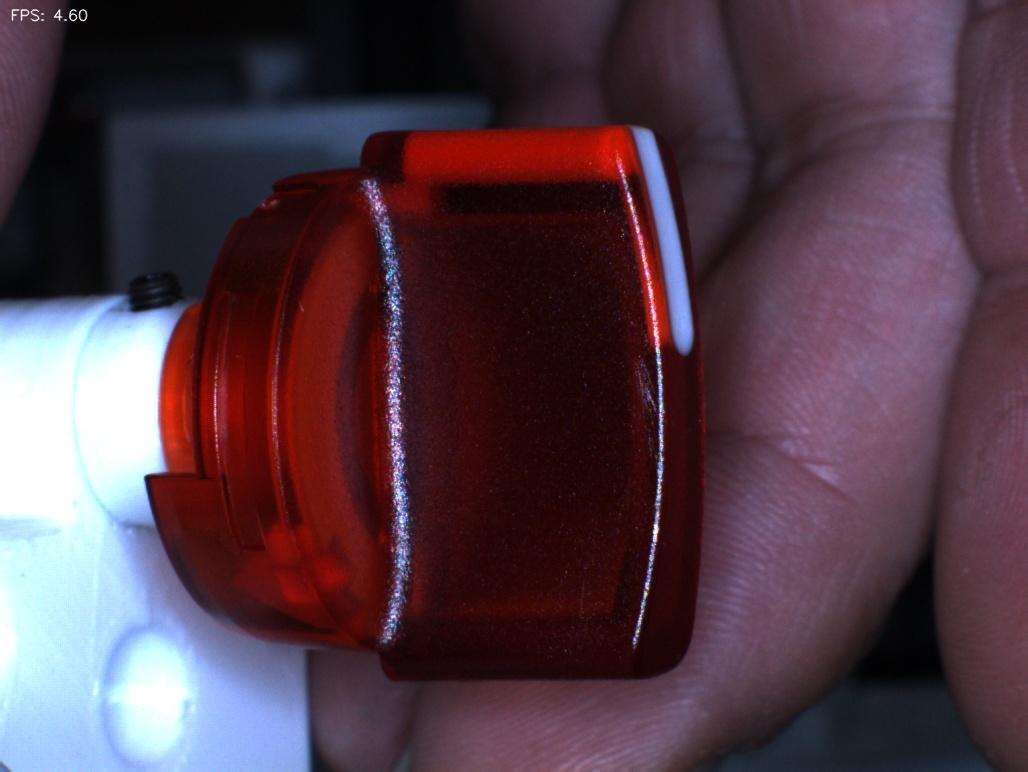Givrage: (602, 336, 679, 457)
